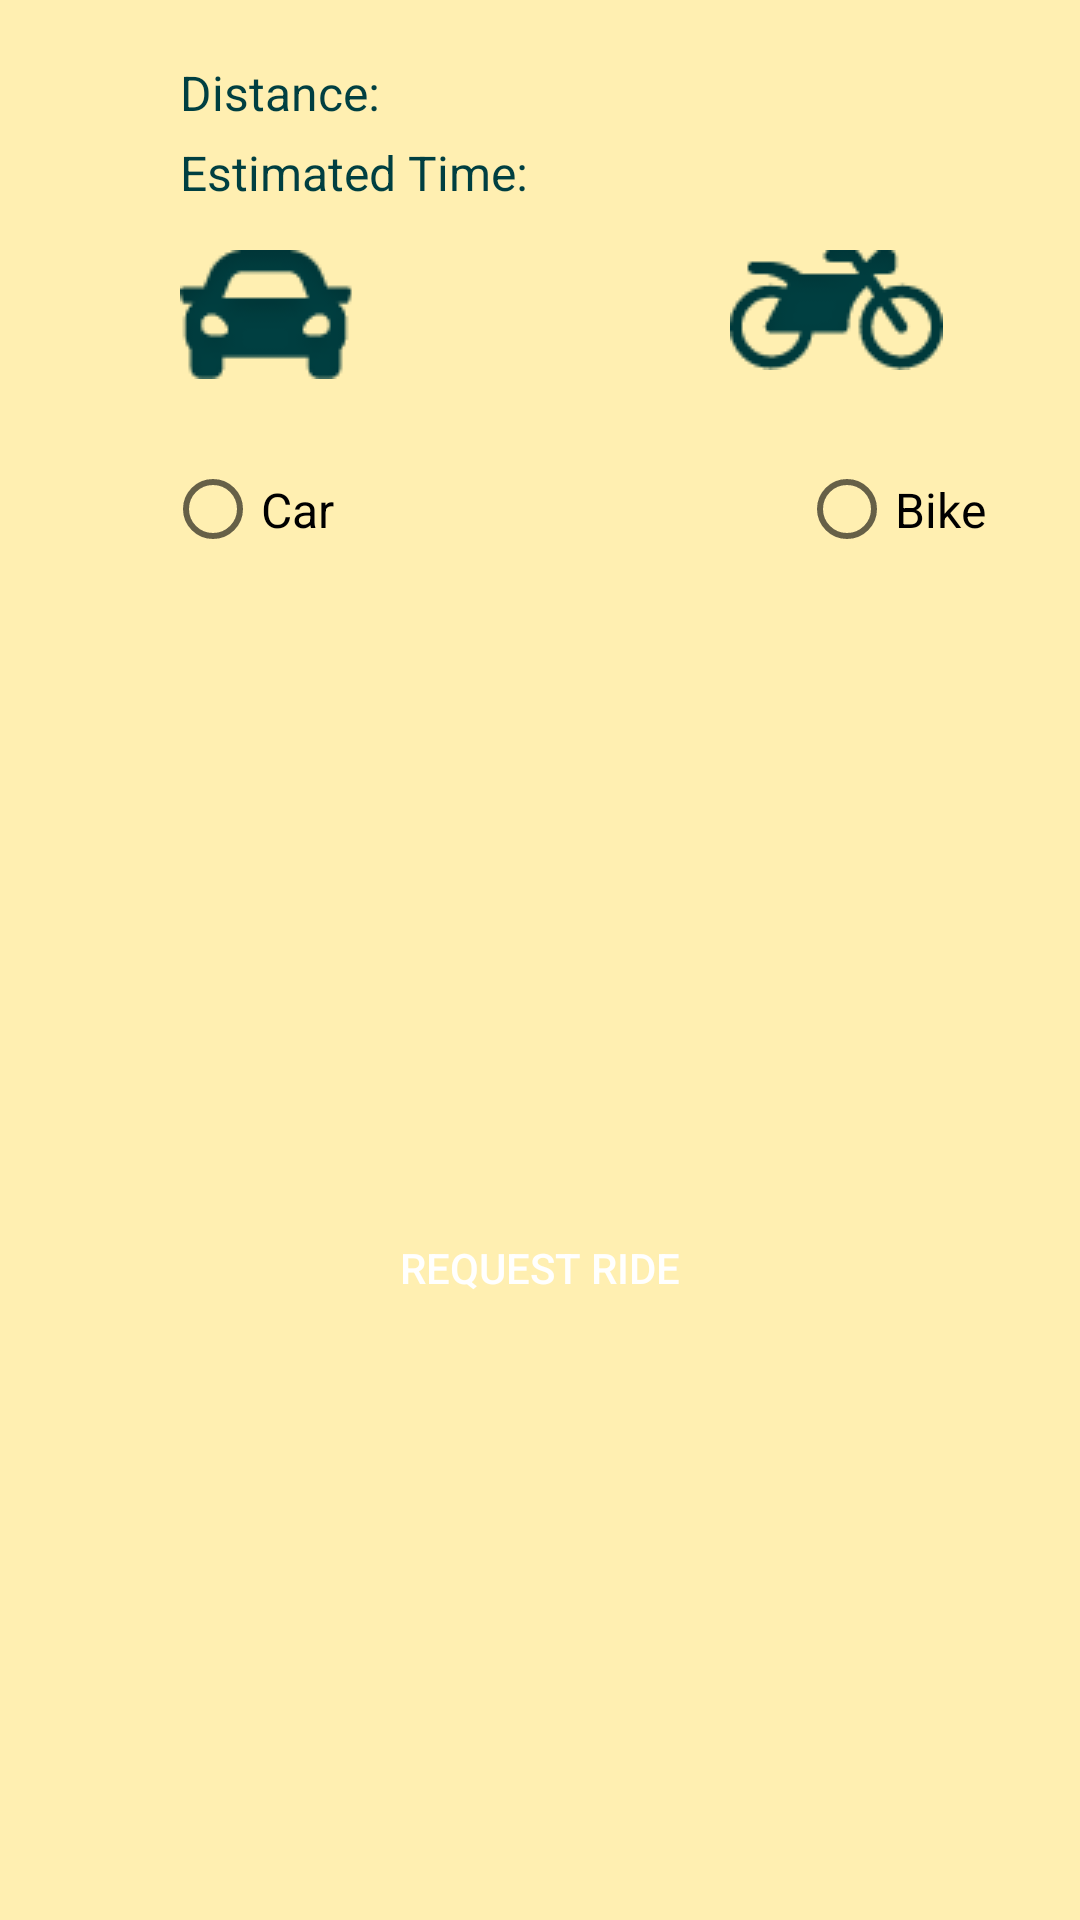

Icon click points for this 1080 x 1920 phone screenshot, format point (x, y):
carimage: point (266, 314)
motorcycle: point (836, 310)
